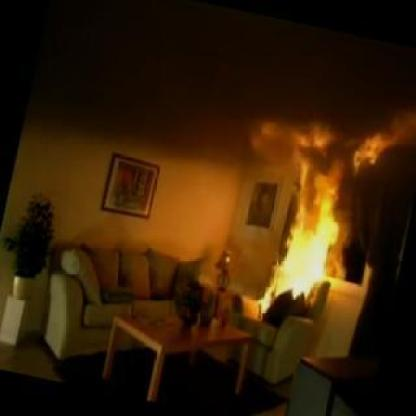Fire: (248, 127, 399, 318)
